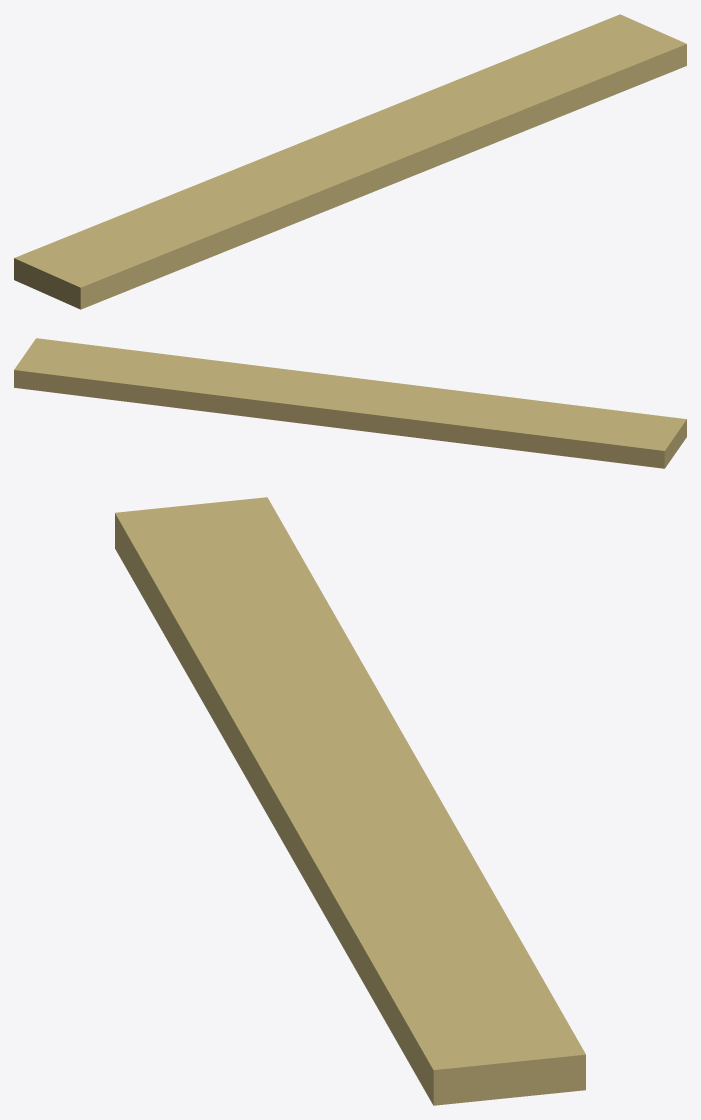
3 renders of one model, top to bottom at view 1: azimuth 30°, elevation 25°; view 2: azimuth 150°, elevation 25°; view 3: azimuth 270°, elevation 25°, orthographic. The views are drawn at different scales.
Parts seen in each view (by area): view 1: GAP-11-ribbon; view 2: GAP-11-ribbon; view 3: GAP-11-ribbon.
Part boxes in pixels (<box>): GAP-11-ribbon: <box>14,14,686,309</box>; GAP-11-ribbon: <box>14,338,686,468</box>; GAP-11-ribbon: <box>115,497,585,1105</box>.
Bounding box in the file's own units: 1.21 × 0.035 × 0.4202.
